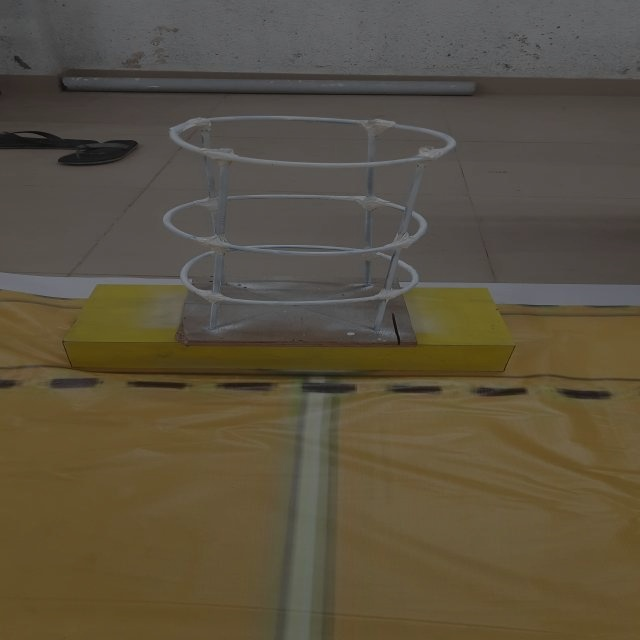silo: (145, 94, 463, 368)
